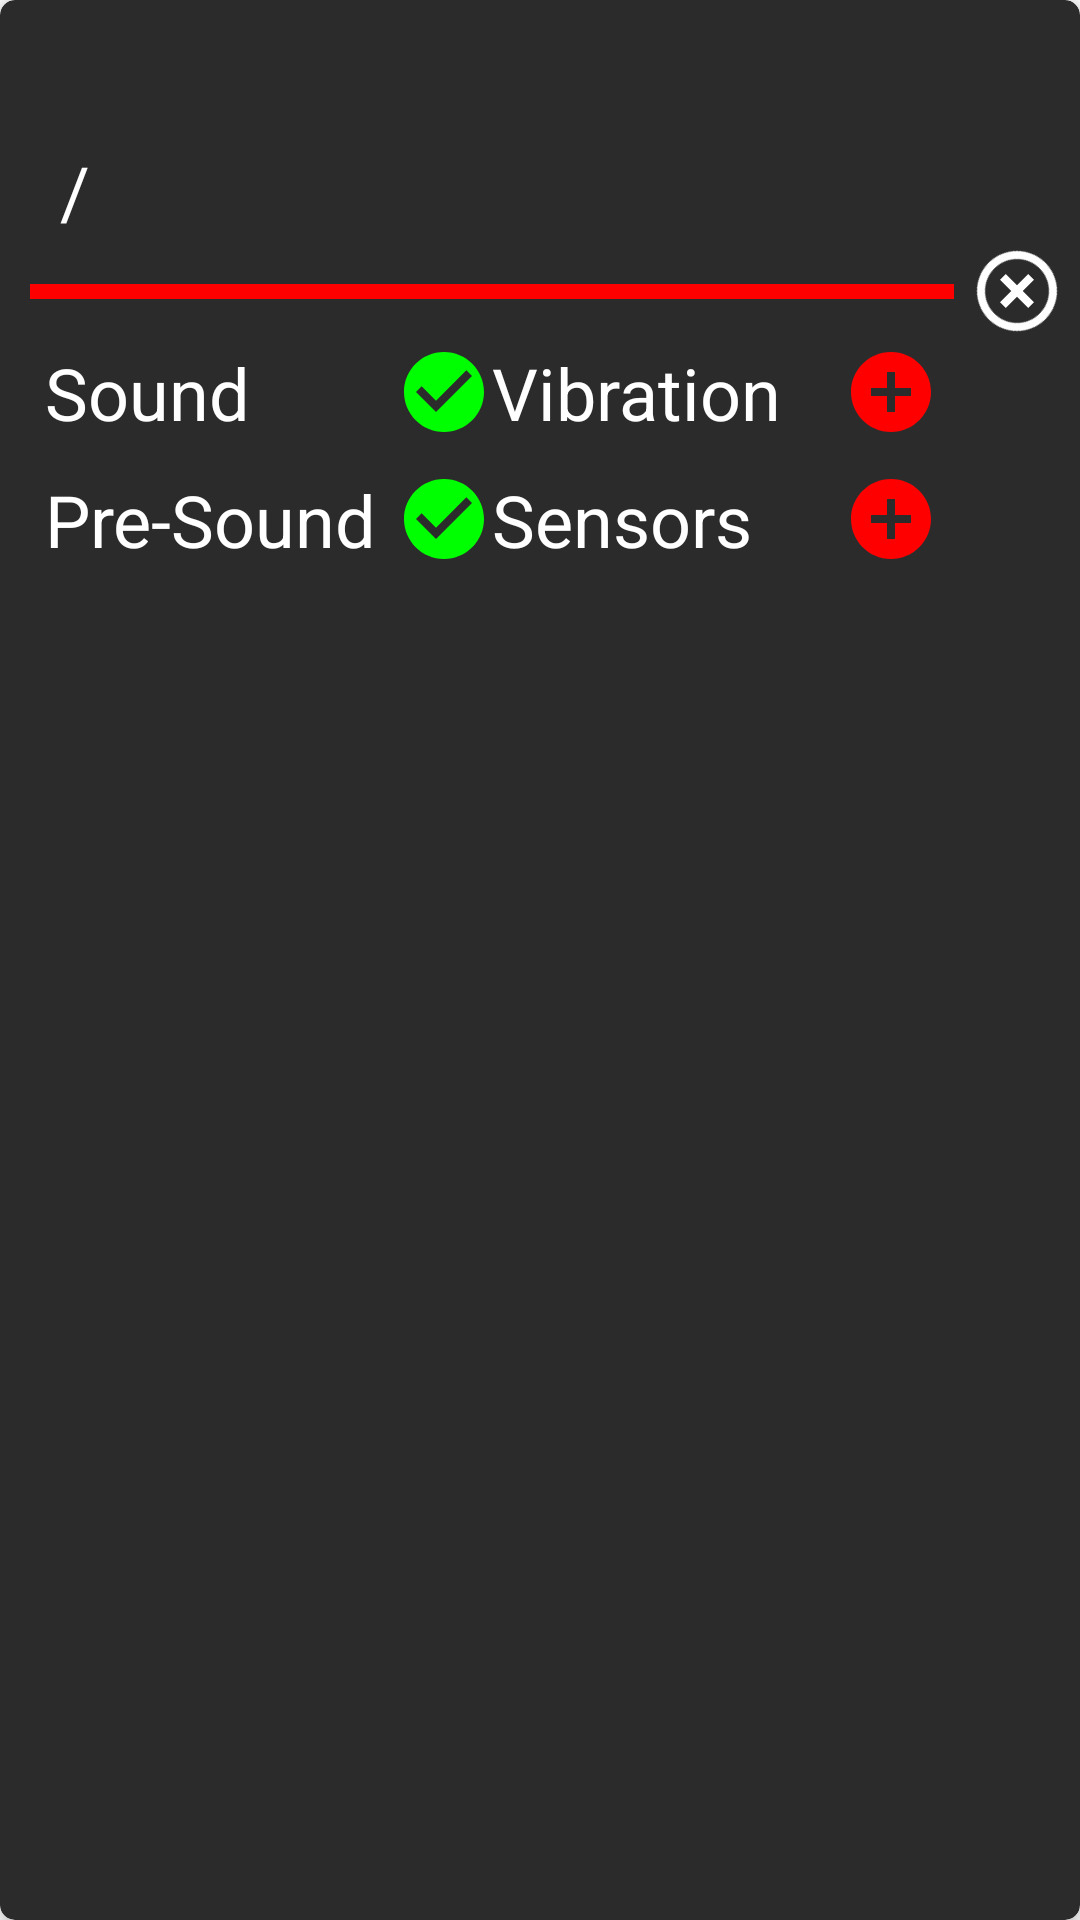

Icons on this 1080w x 1920h Android screen, each with its box as (x1, y1, x2, y2):
checked: (404, 352, 484, 432), (404, 479, 484, 559)
unchecked: (851, 352, 931, 432), (851, 479, 931, 559)
